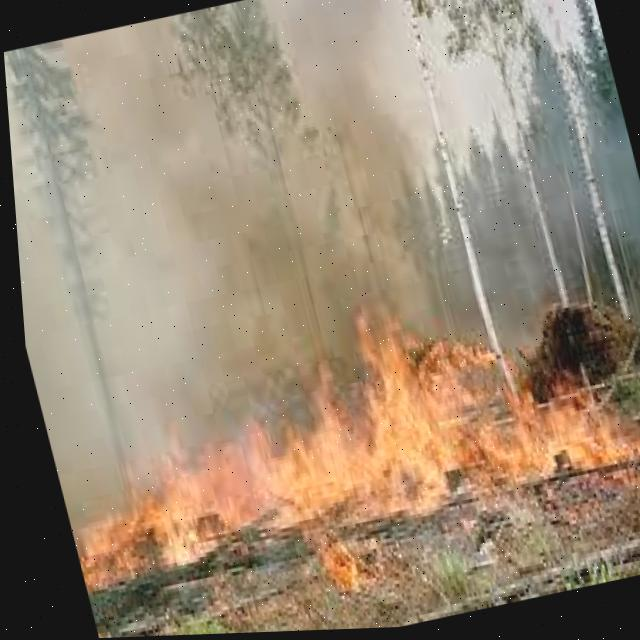smoke: (3, 0, 474, 547)
